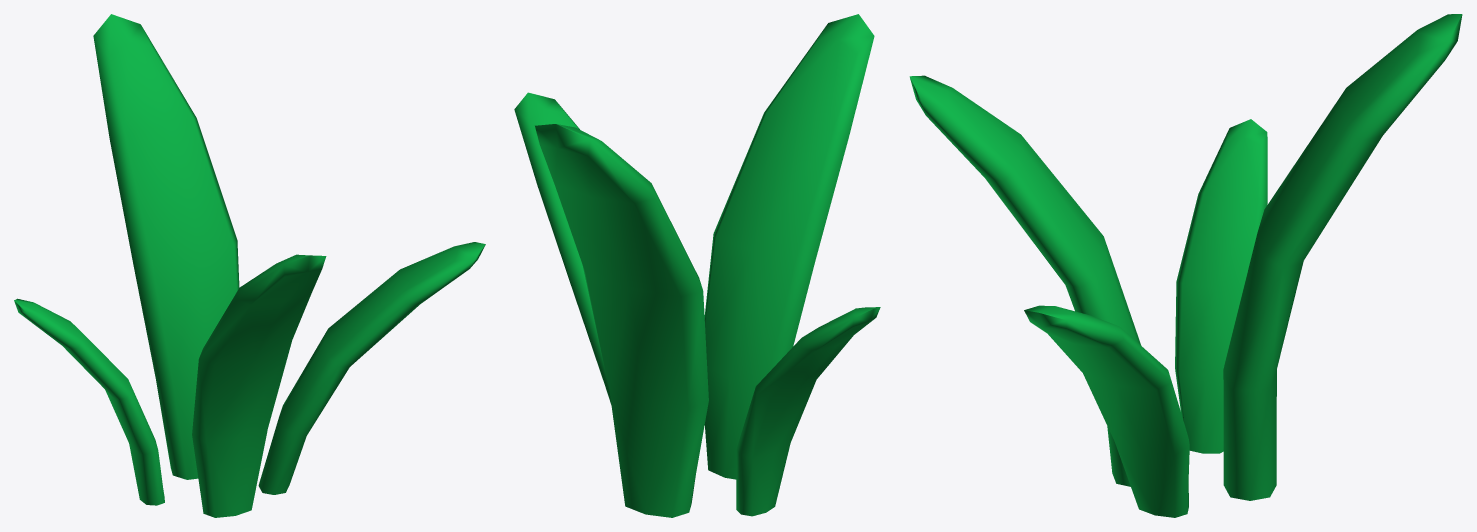
File: Town_1_Grass_3.glb
3 renders of one model, left to right at view 1: azimuth 30°, elevation 25°; view 2: azimuth 150°, elevation 25°; view 3: azimuth 270°, elevation 25°, orthographic. The views are drawn at different scales.
Visible parts, largest first — view 1: Town_1_Grass_3; view 2: Town_1_Grass_3; view 3: Town_1_Grass_3.
Boxes of the visible parts, <box> form: Town_1_Grass_3: <box>14,14,485,517</box>; Town_1_Grass_3: <box>514,14,880,517</box>; Town_1_Grass_3: <box>909,14,1462,517</box>.
Bounding box in the file's own units: 0.3428 × 0.3331 × 0.354.
1 material, 1 textured.
